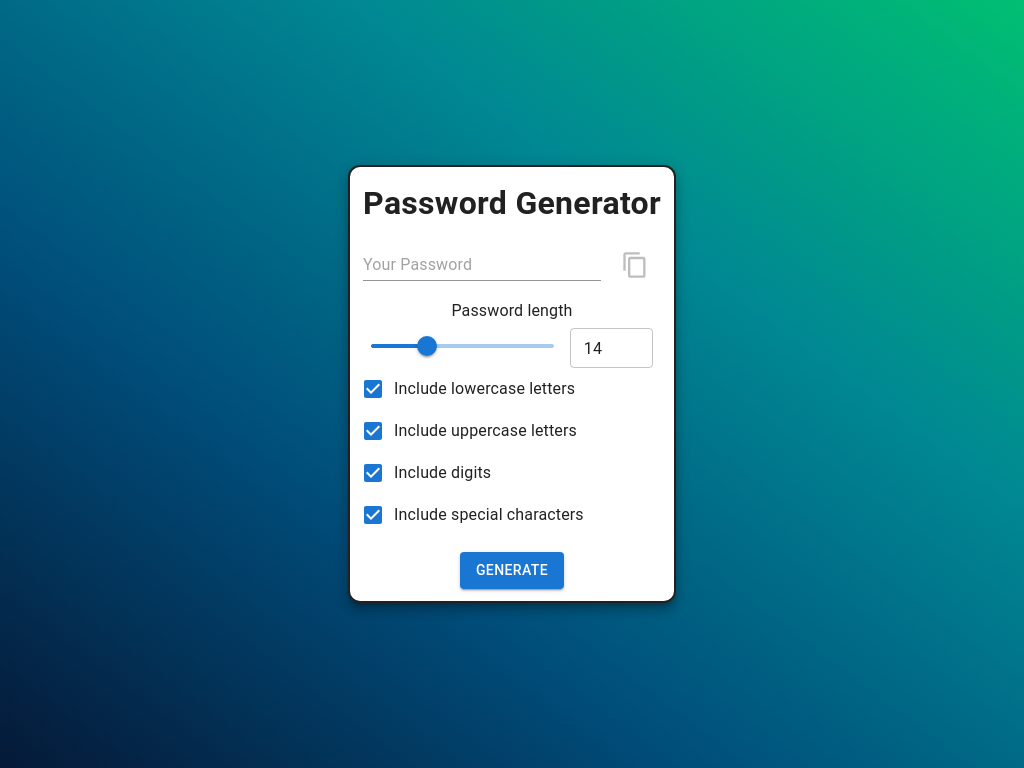
Scenario: Password generator › hides the notification when a new password is generated
Click the button with test id "generate-btn".
click(512, 571)  # box top-left (460, 552), bottom-right (564, 589)
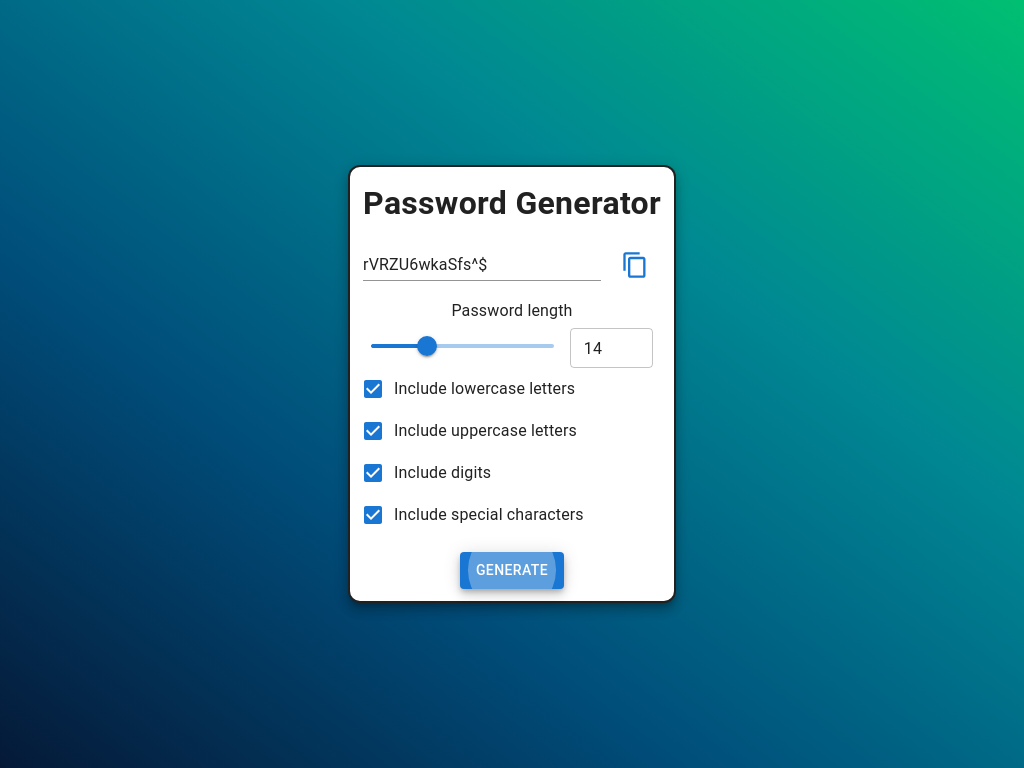
Focus the button with test id "copy-btn" at (635, 265), box top-left (609, 239), bottom-right (661, 291)
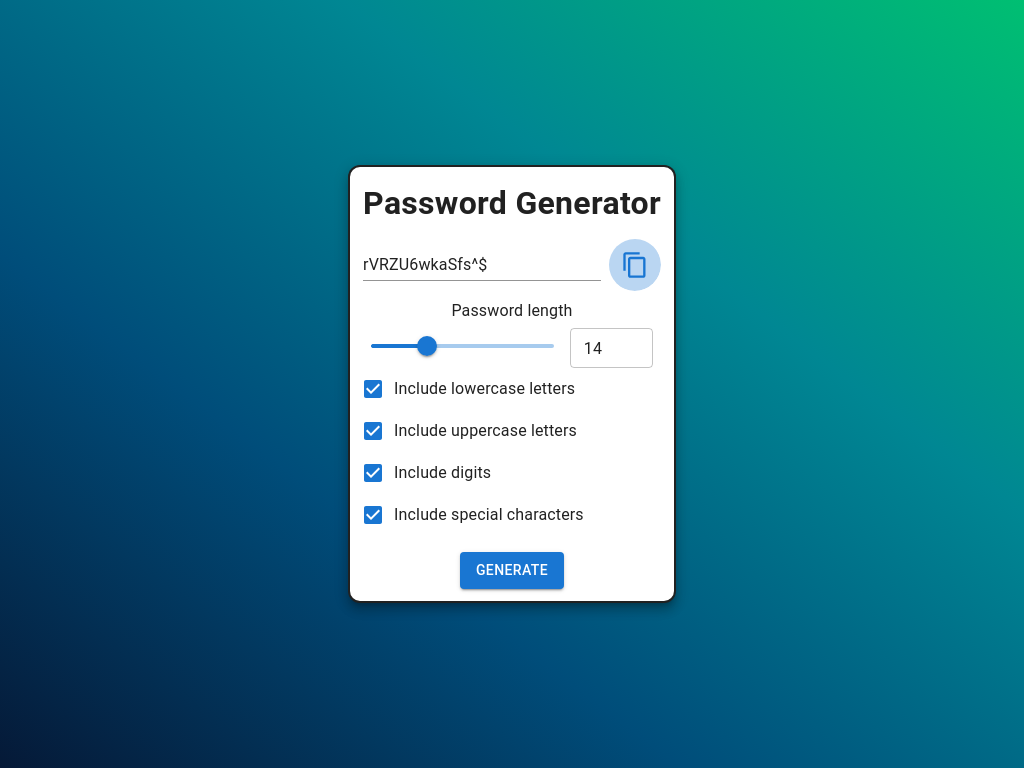
Click the button with test id "copy-btn".
click(635, 265)  # box top-left (609, 239), bottom-right (661, 291)
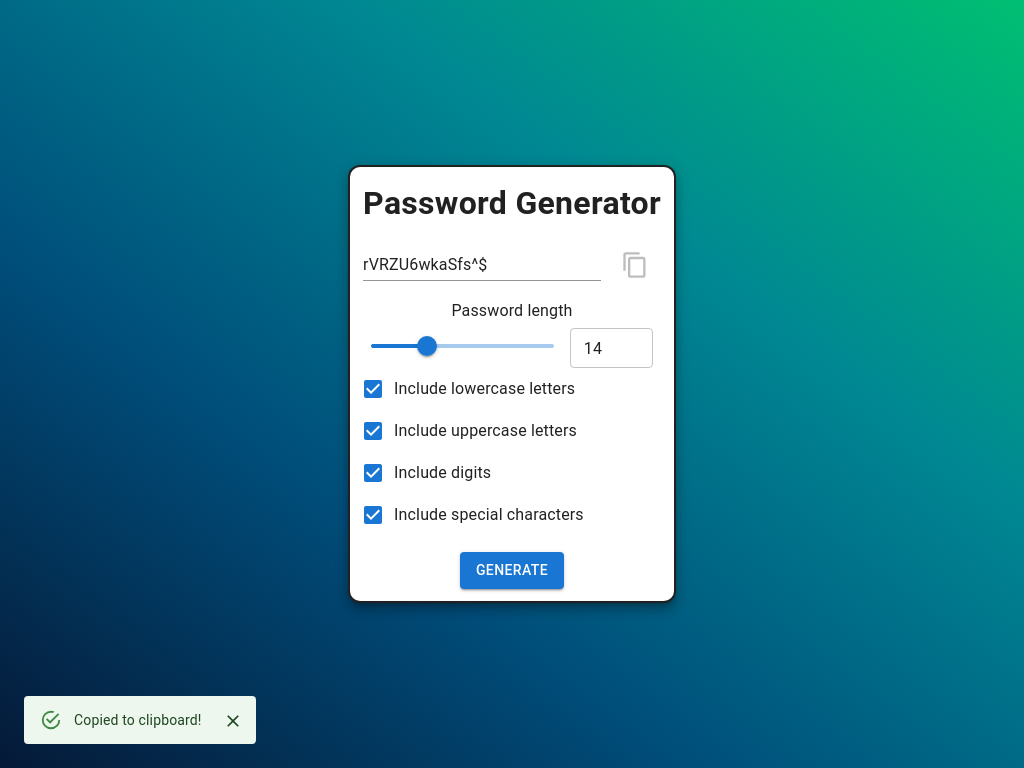
expect the element with test id "notification" is shown: met, box top-left (24, 696), bottom-right (256, 744)
Click the button with test id "generate-btn".
click(512, 571)  # box top-left (460, 552), bottom-right (564, 589)
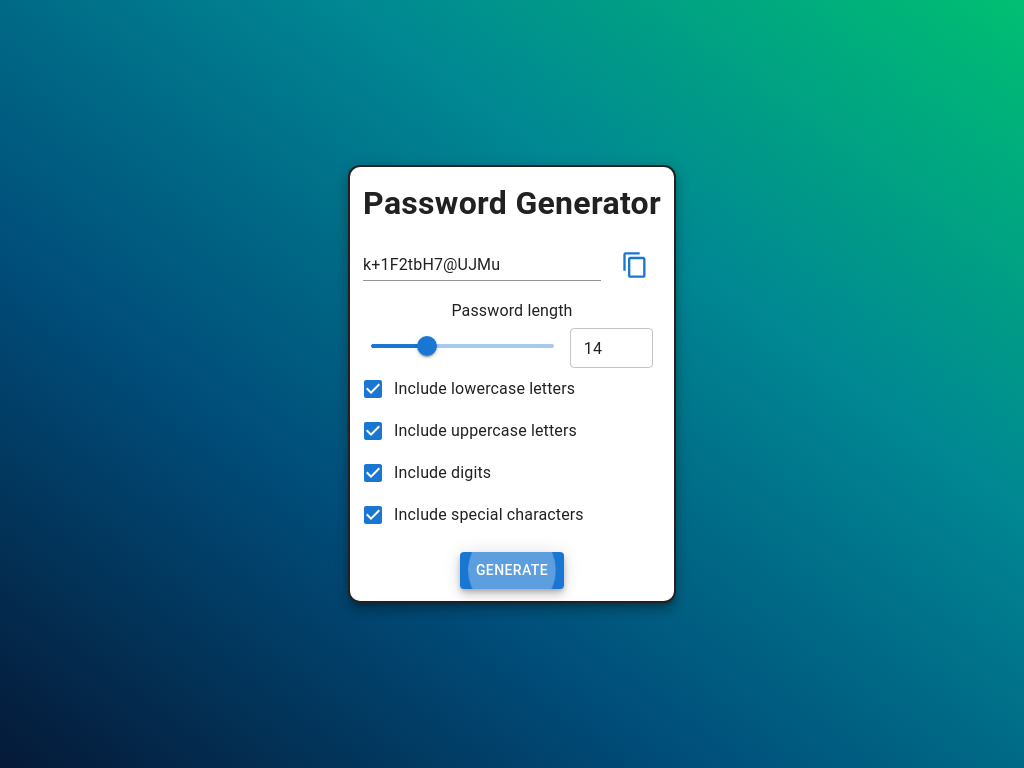
expect the element with test id "notification" is gone: met
